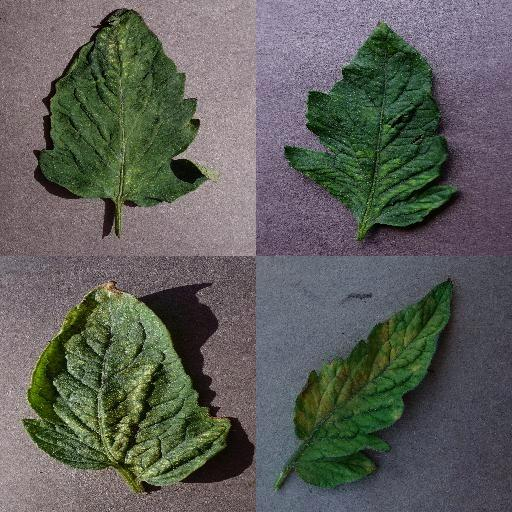Leaf Mold: (295, 278, 452, 488)
Mosaic Virus: (286, 19, 458, 225)
Spider Mites: (22, 280, 230, 486), (38, 8, 214, 208)
